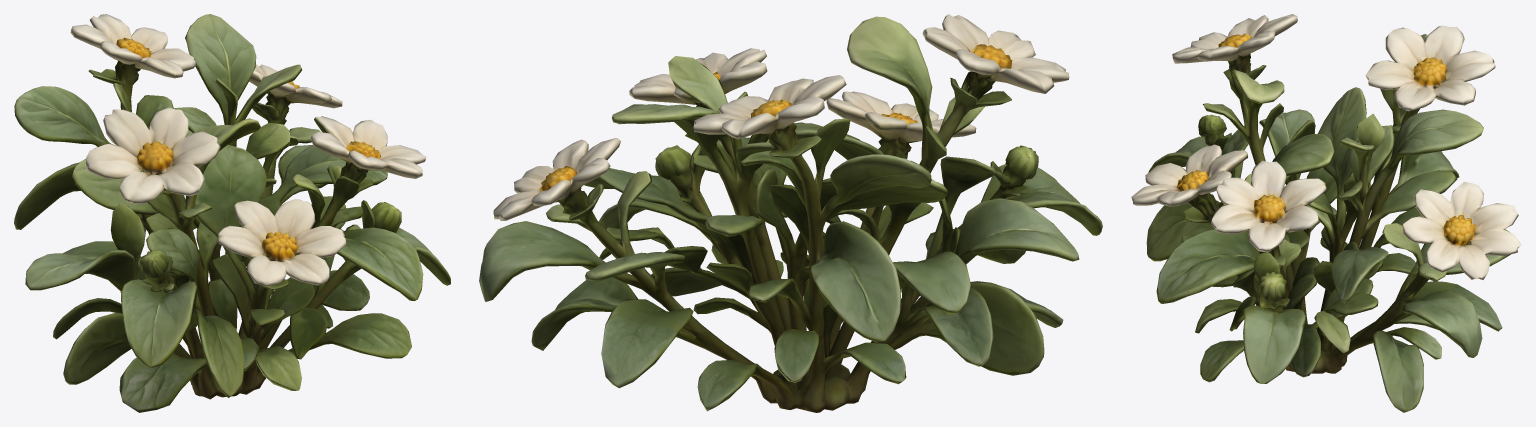
File: tripo_convert_24075fda-7513-4f3c-b61e-ba637fe0239b.fbx
3 views of the same model, side by side, from view 1: azimuth 30°, elevation 25°; view 2: azimuth 150°, elevation 25°; view 3: azimuth 270°, elevation 25° (orthographic). The views are drawn at different scales.
Visible parts, largest first — view 1: tripo_node_24075fda; view 2: tripo_node_24075fda; view 3: tripo_node_24075fda.
Part boxes in pixels (x1=…): tripo_node_24075fda: x1=14, y1=14, x2=450, y2=412; tripo_node_24075fda: x1=479, y1=14, x2=1102, y2=412; tripo_node_24075fda: x1=1131, y1=14, x2=1521, y2=412.
Bounding box in the file's own units: 0.9788 × 0.7258 × 0.8492.
1 material, 1 textured.
